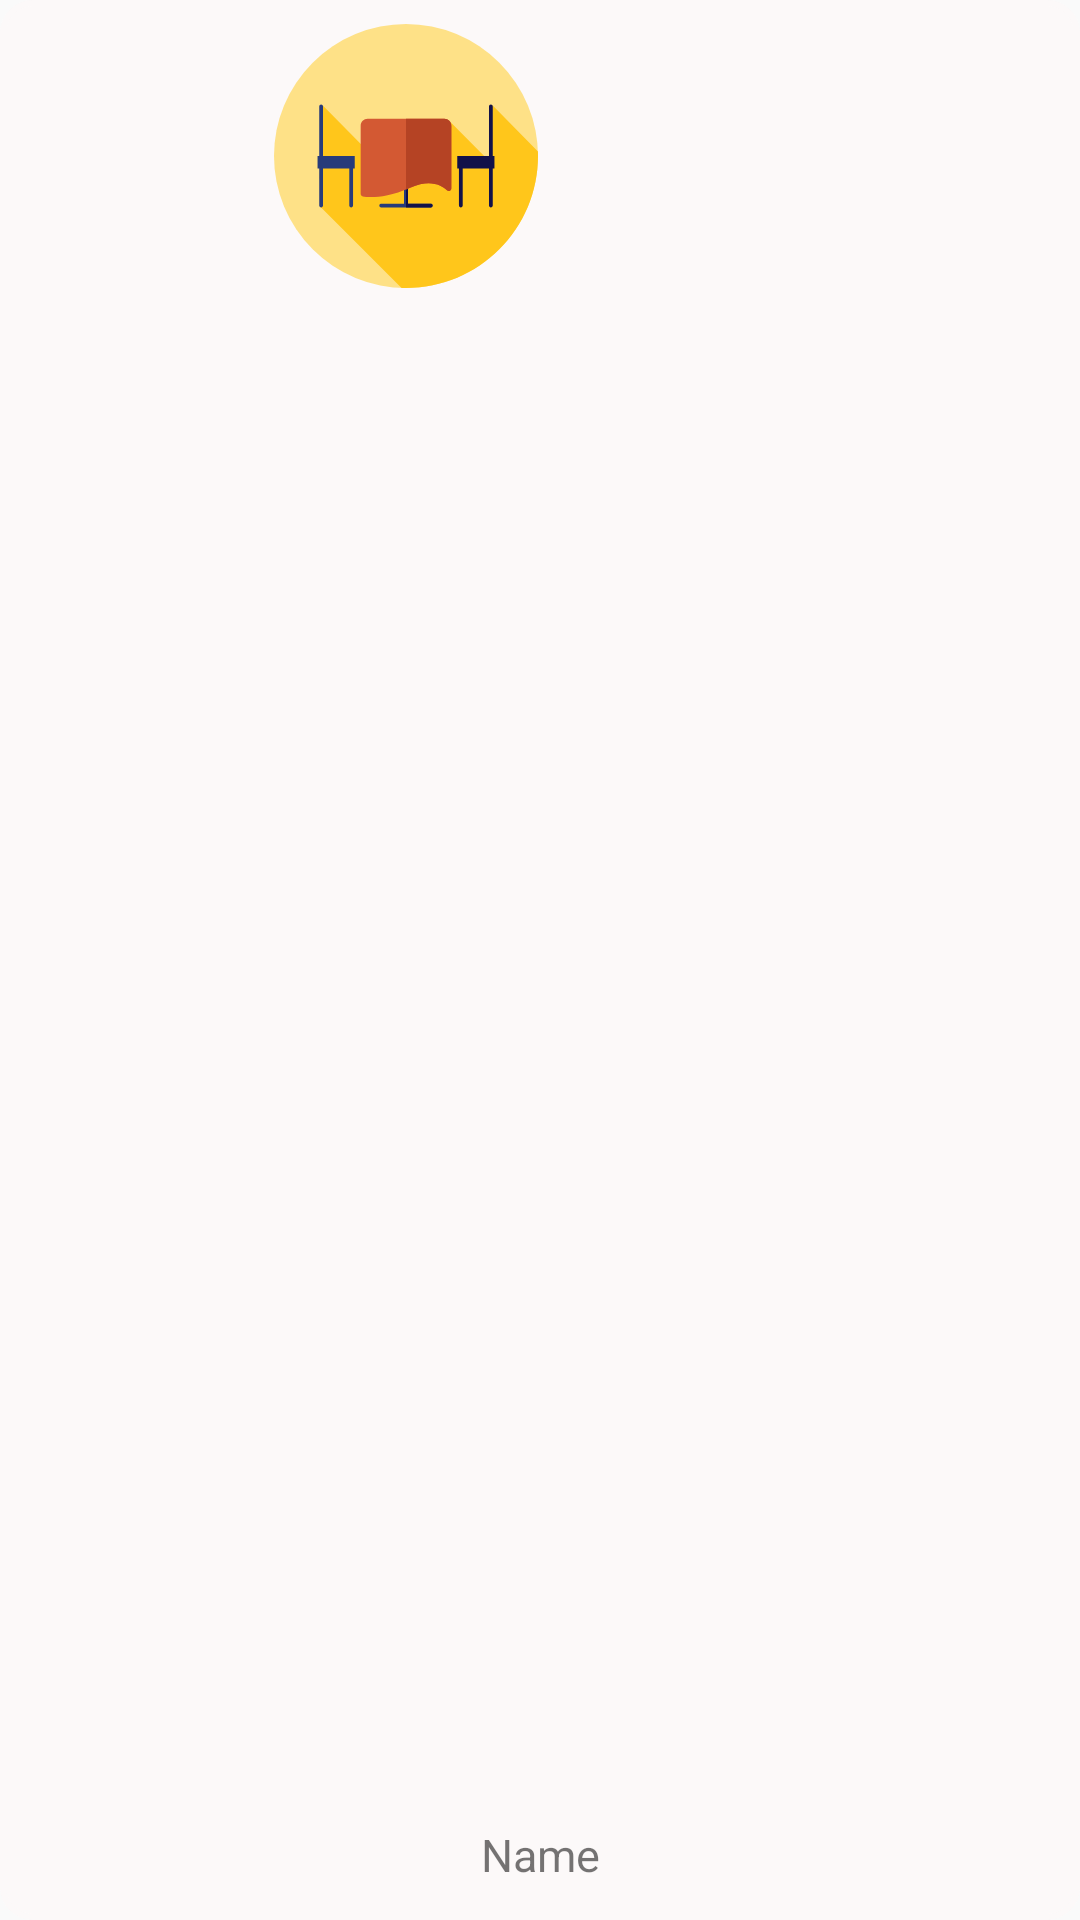

Where icons sit on this 1080 x 1920 app screen, as (x1, y1, x2, y2):
table: (274, 24, 538, 288)
